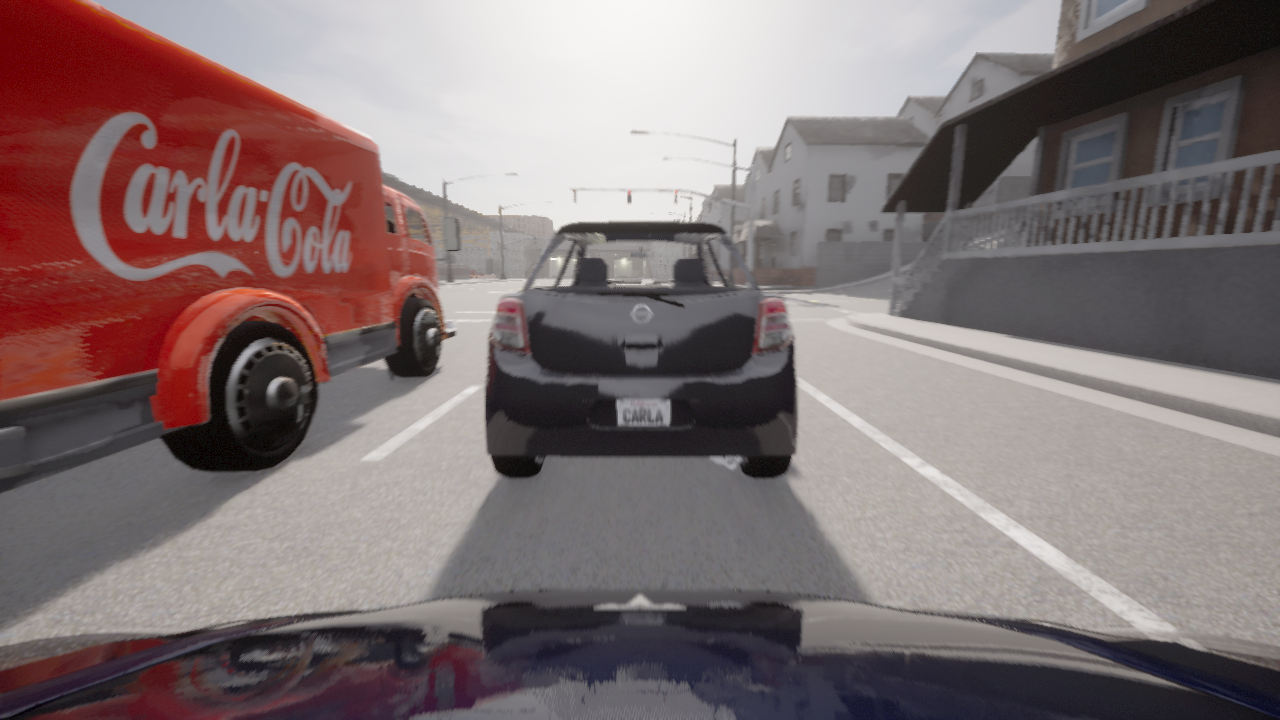cyclist: (0, 588, 1279, 719), (484, 221, 798, 478), (903, 246, 982, 288), (471, 271, 481, 274), (471, 272, 473, 274)
